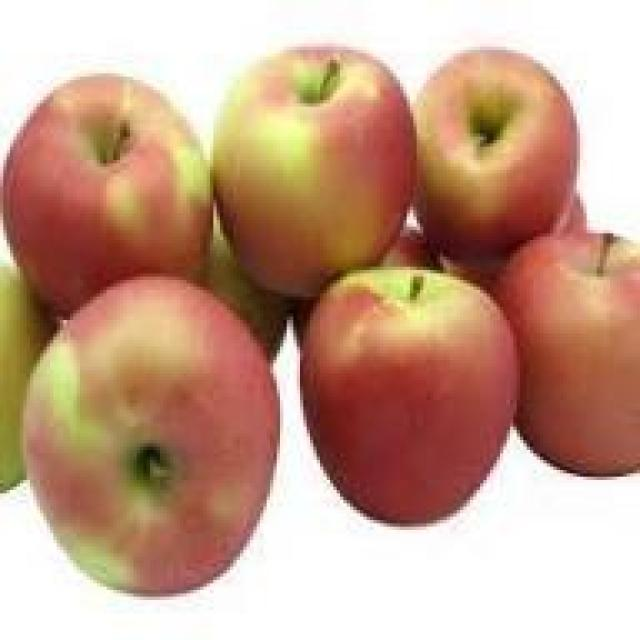apple: (23, 290, 257, 587), (283, 260, 517, 520), (214, 53, 404, 300), (3, 84, 204, 304), (410, 37, 577, 250), (506, 229, 640, 463)
